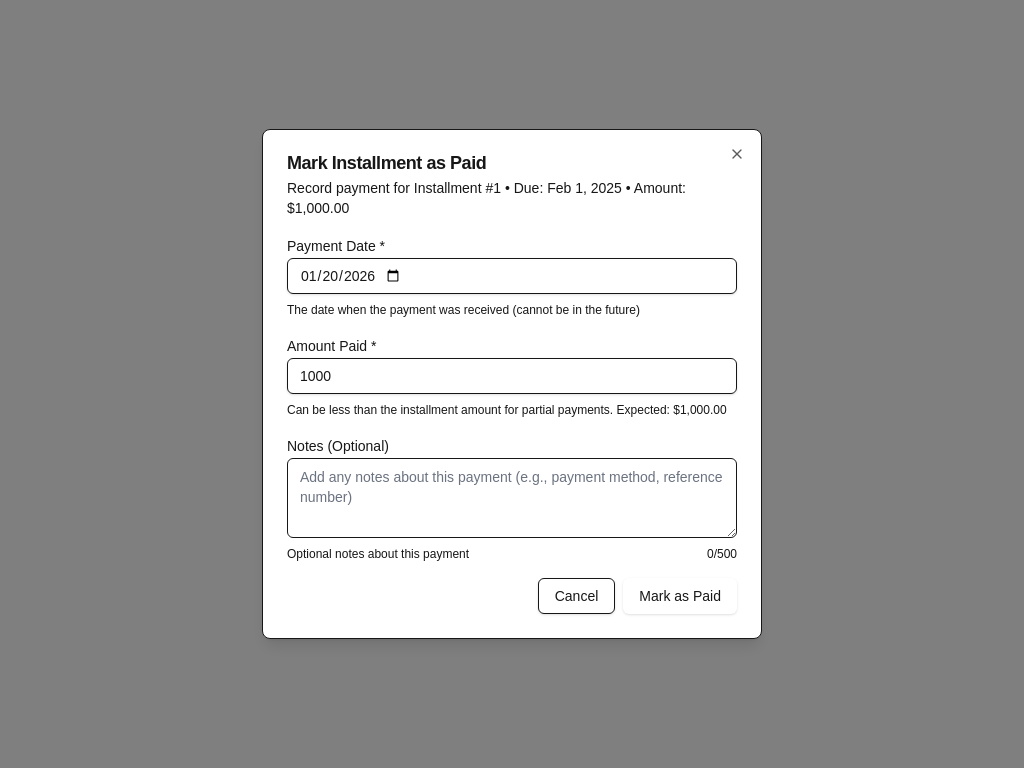
Test case: MarkAsPaidModal › Form Submission › should disable submit button when form is invalid
Clear the number field labelled "Amount Paid *". click: (512, 376)
box: [287, 358, 737, 394]
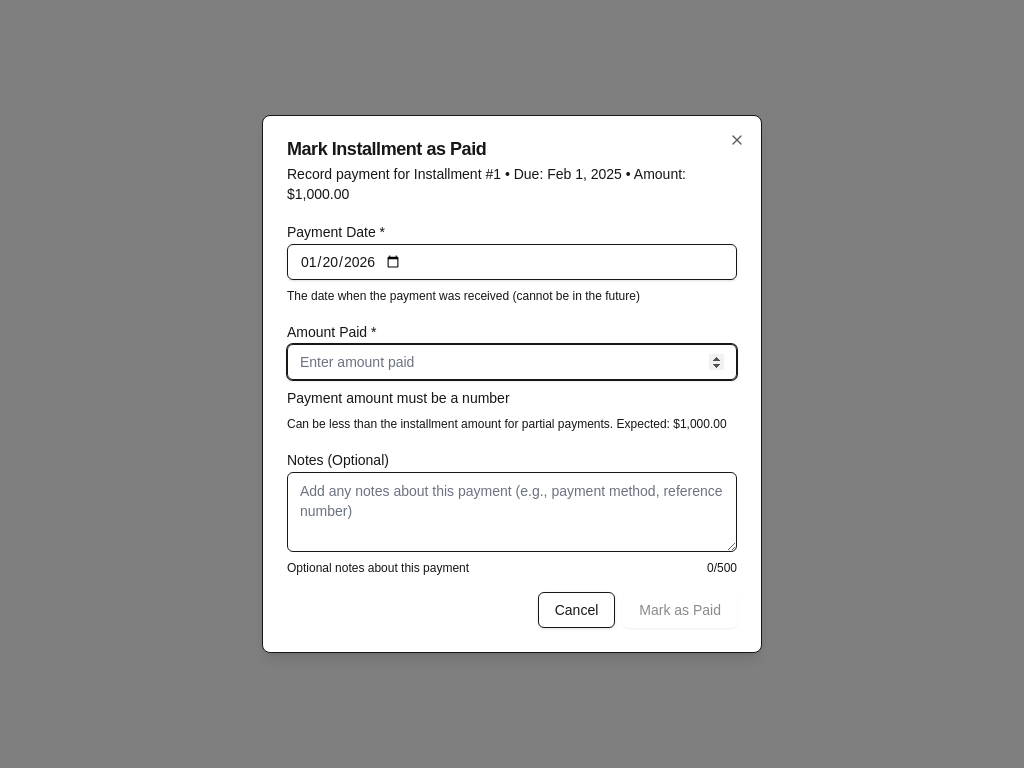
Expected: the button "Mark as Paid" is disabled, [623, 592, 737, 628]
